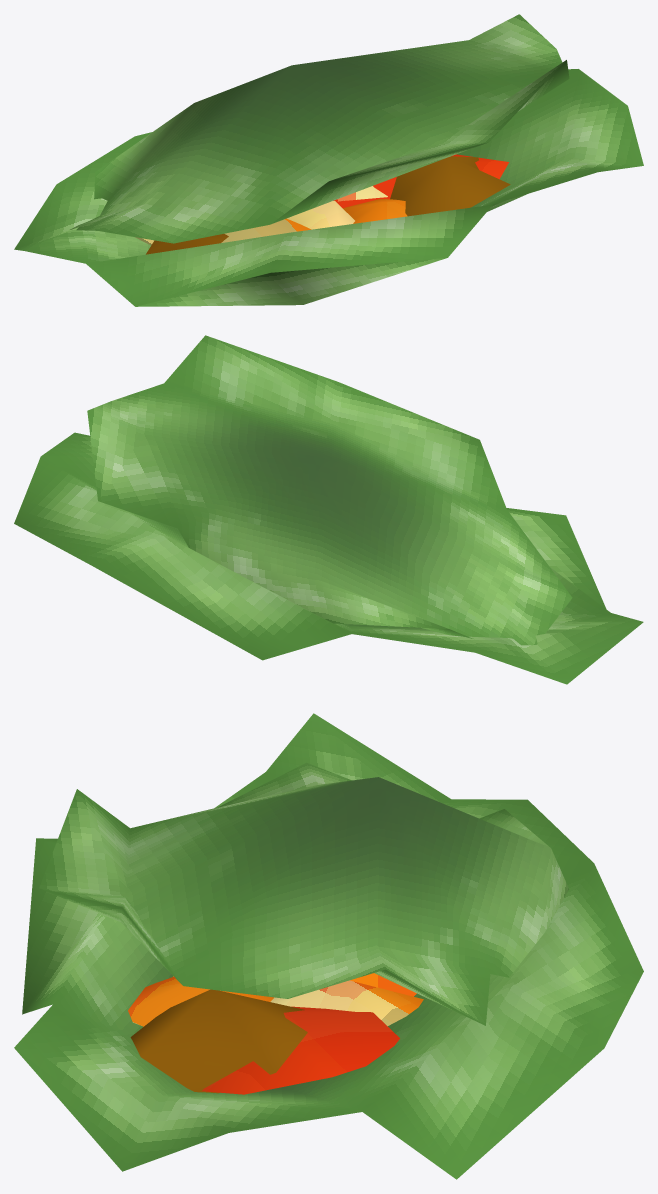
File: LettuceWrap_Evolved.fbx
The picture shows the model from 3 angles, top to bottom: view 1: azimuth 30°, elevation 25°; view 2: azimuth 150°, elevation 25°; view 3: azimuth 270°, elevation 25°; orthographic projection. The views are drawn at different scales.
Parts seen in each view (by area): view 1: Lettuce.001; view 2: Lettuce.001; view 3: Lettuce.001.
Boxes of the visible parts, left/top/right/bottom form: Lettuce.001: left=14, top=14, right=643, bottom=306; Lettuce.001: left=14, top=335, right=643, bottom=684; Lettuce.001: left=14, top=713, right=643, bottom=1179.
Size of the model in its own units: 29.79 by 10.14 by 17.32.
